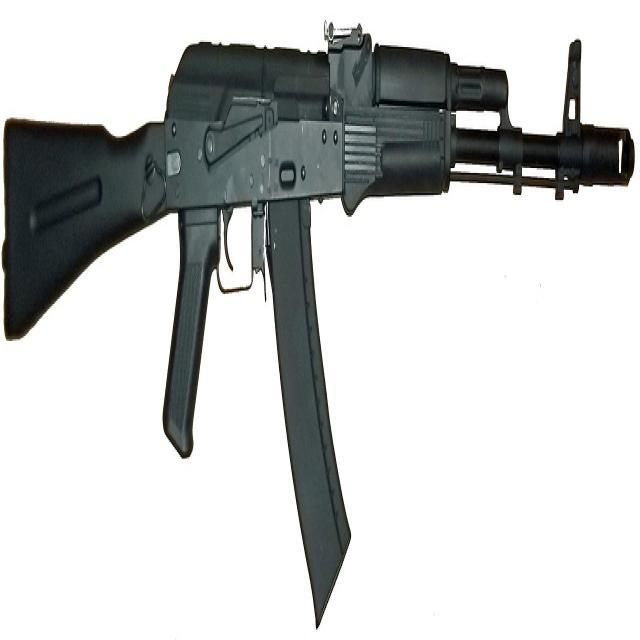Gun: (2, 26, 635, 621)
